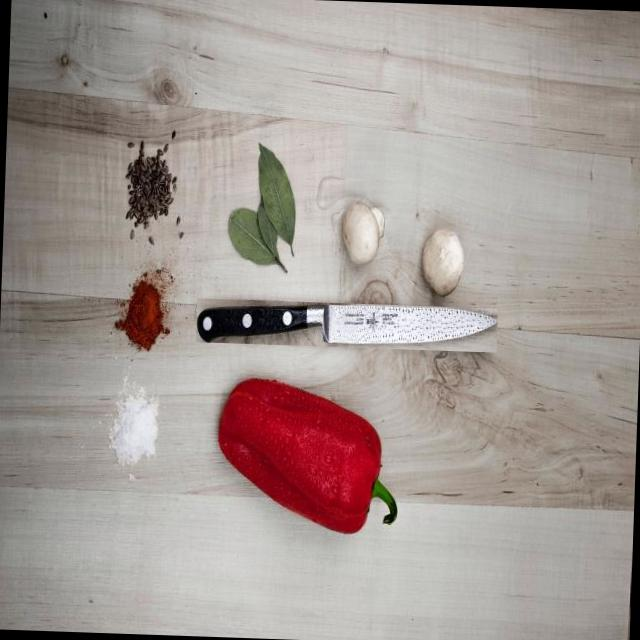Knife: (196, 304, 497, 348)
